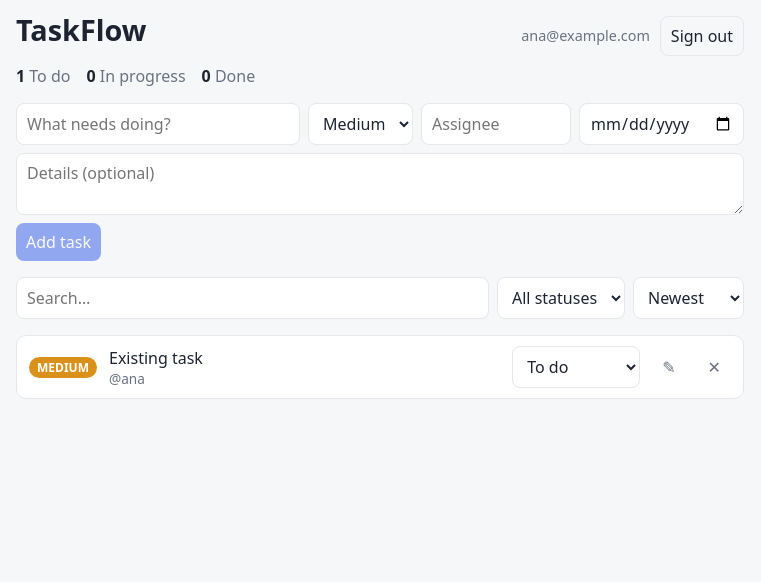
Test case: tasks › edits every field of a task
The width and height of the screenshot is (761, 582).
Expected: the text "Existing task" is shown, [109,346,203,368]
Click the button named "Edit Existing task" at (669, 367), box [652,348,686,386]
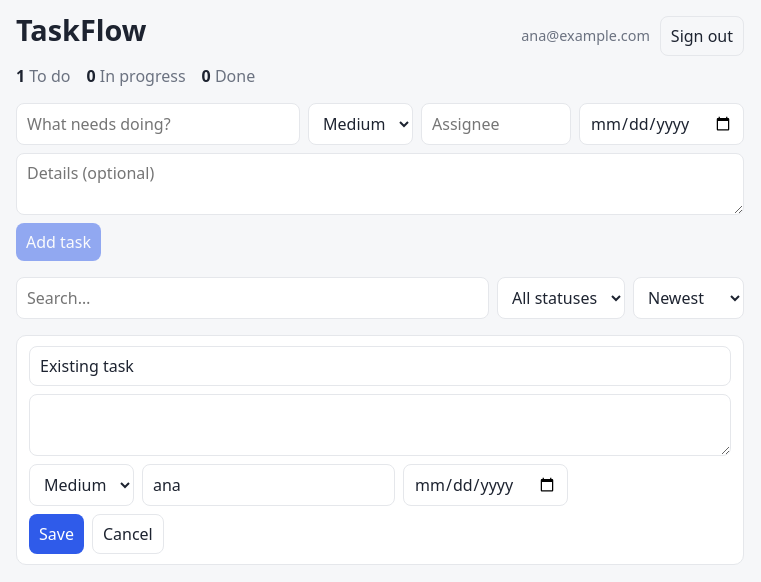
Replace the text in the field named "Edit title" with "Renamed task" at (380, 366), box [29,346,731,386]
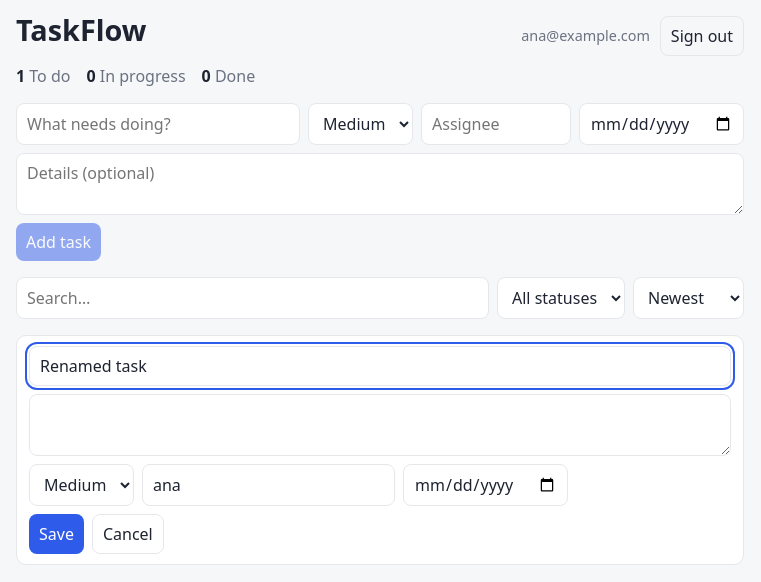
Type "More detail" into the text box named "Edit description" at (380, 425), box [29,394,731,456]
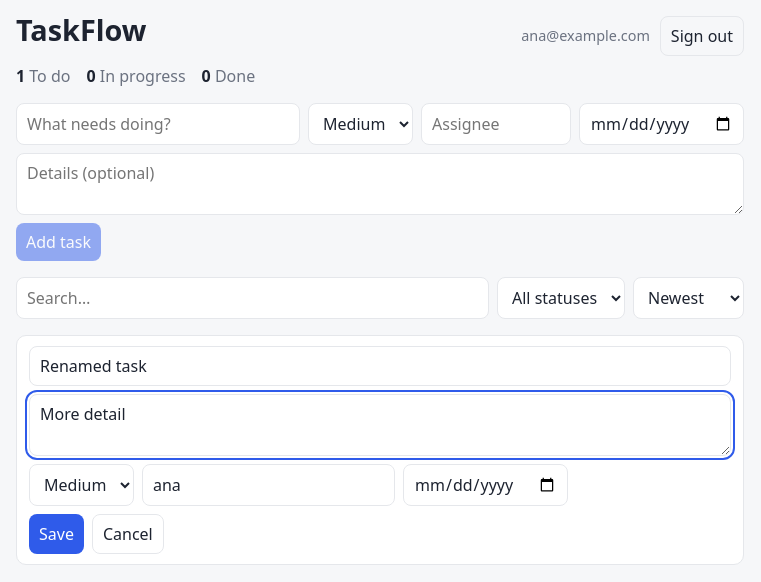
Select "Low" in the dropdown named "Edit priority" at (82, 485), box [29,464,134,506]
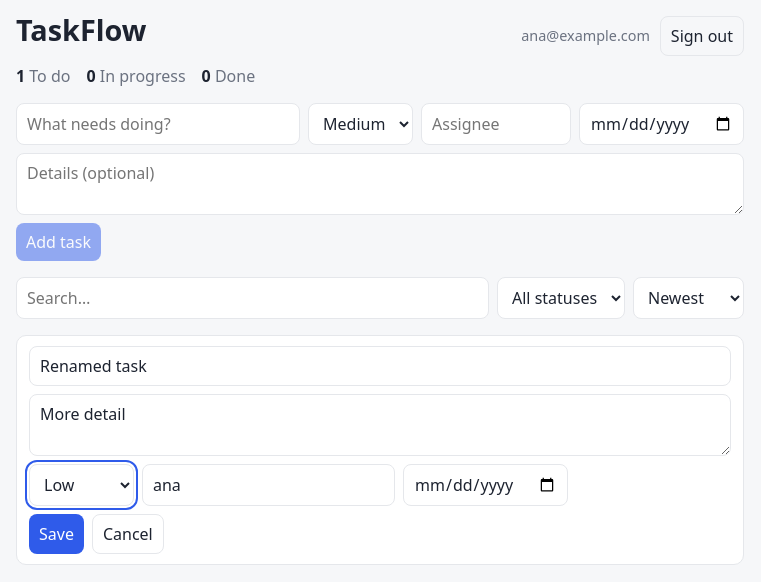
Clear the field named "Edit assignee" at (268, 485), box [142,464,395,506]
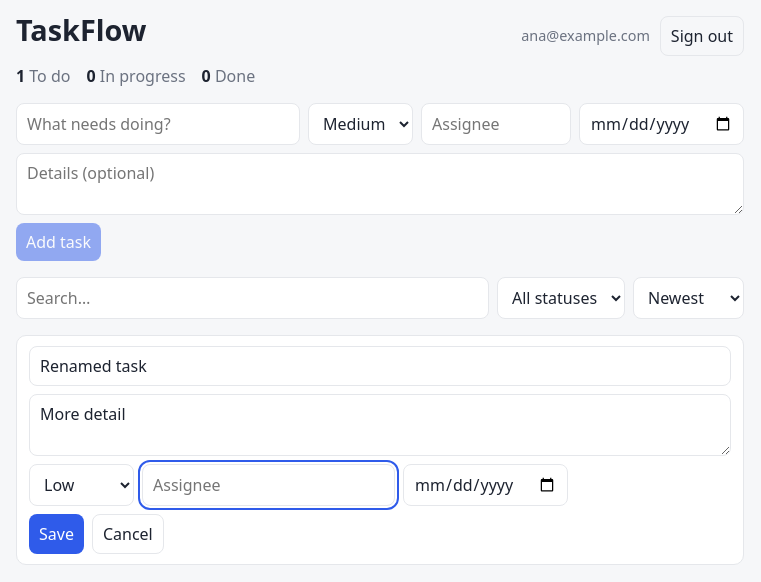
Click the button "Save" at (56, 534), box [29,514,84,554]
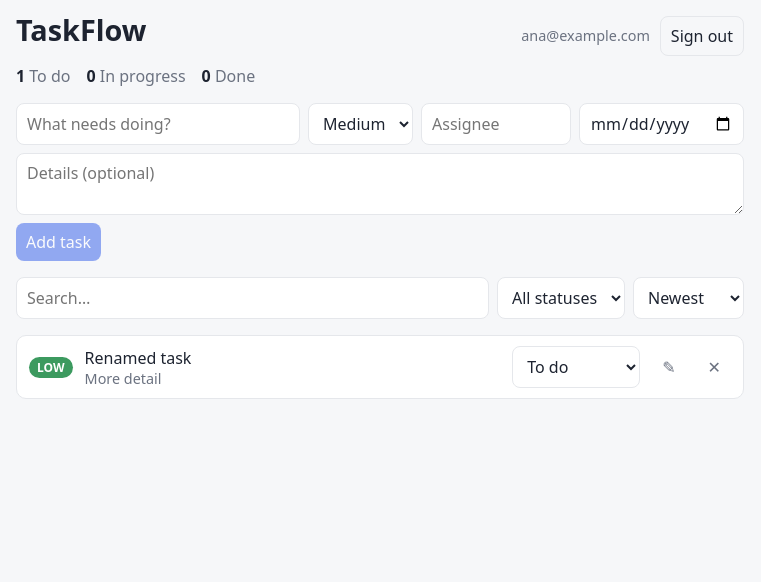
Expected: the text "@ana" is not shown
Expected: the text "More detail" is shown, [85,368,162,388]
Expected: the text "low" is shown, [29,356,73,378]
